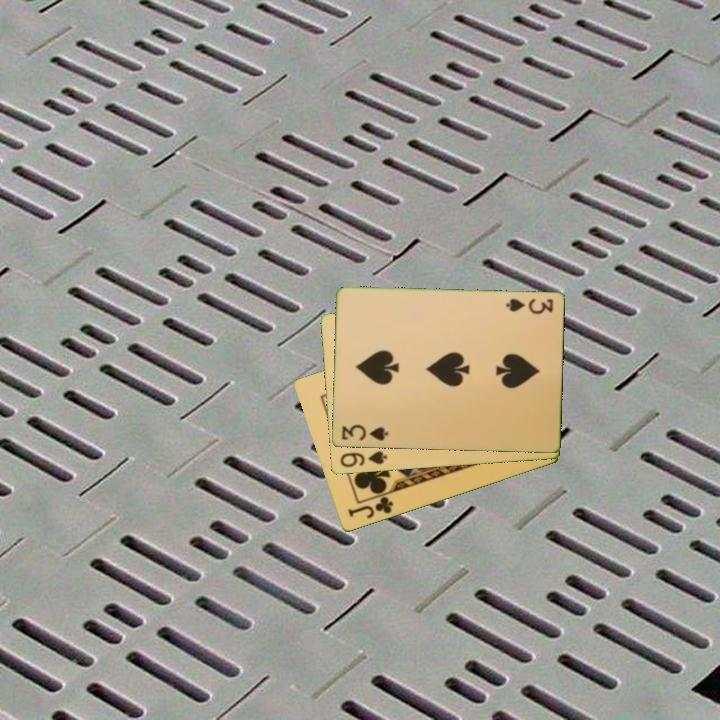3s: (338, 421, 390, 444), (502, 295, 555, 317)
9s: (336, 448, 390, 471)
Jc: (344, 493, 396, 522)
